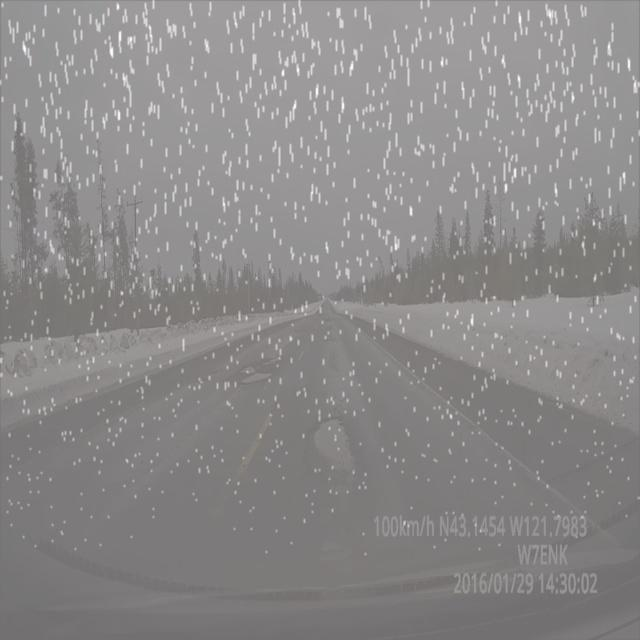Pothole: (310, 411, 366, 490), (228, 344, 278, 390)
